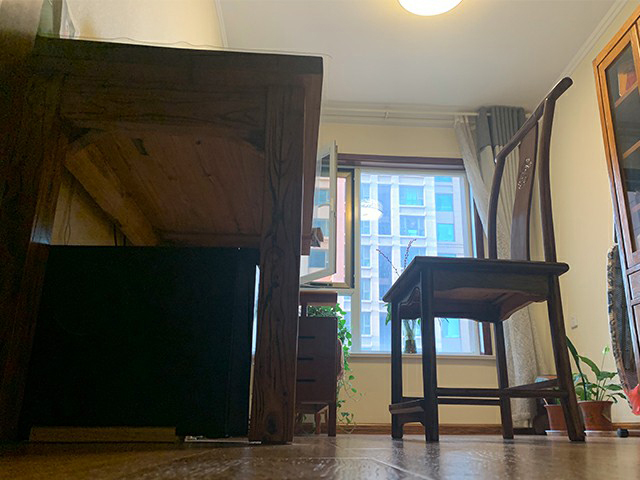curtain: (453, 107, 546, 428)
sofa: (295, 289, 345, 438)
stool: (382, 76, 588, 443)
table: (1, 29, 323, 446)
